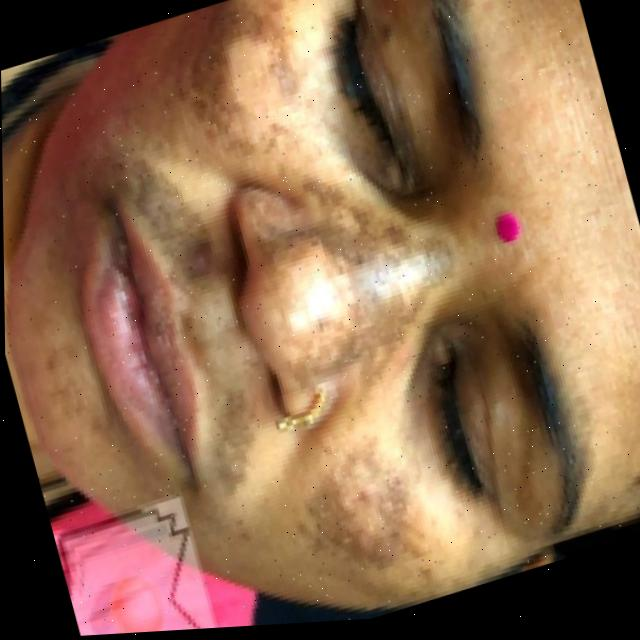Melasma: (124, 136, 295, 492), (252, 173, 454, 363), (291, 430, 440, 591), (160, 0, 306, 149)
